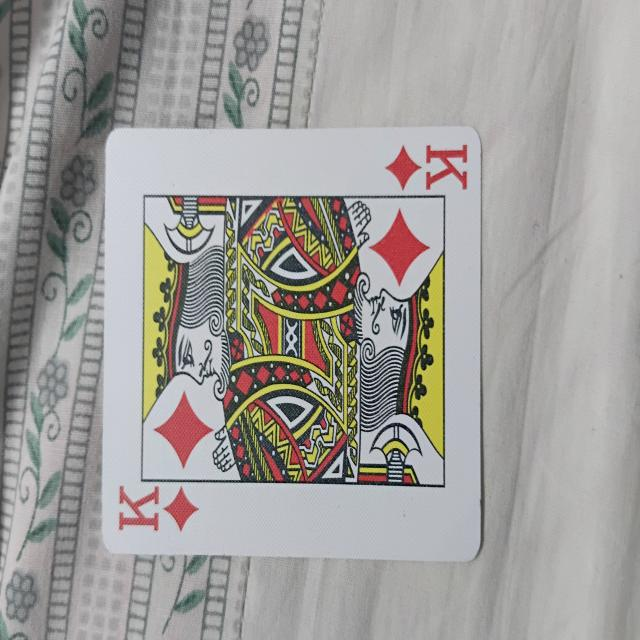KD: (103, 121, 488, 558)
